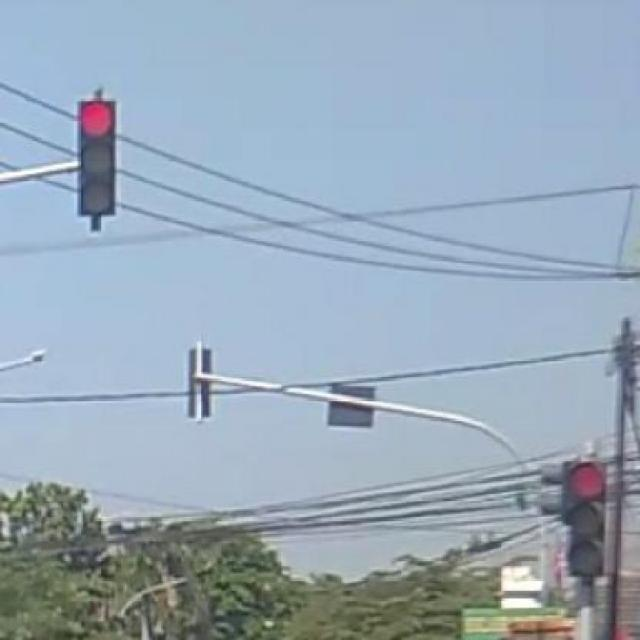traffic light: (565, 458, 608, 580), (79, 100, 117, 217)
